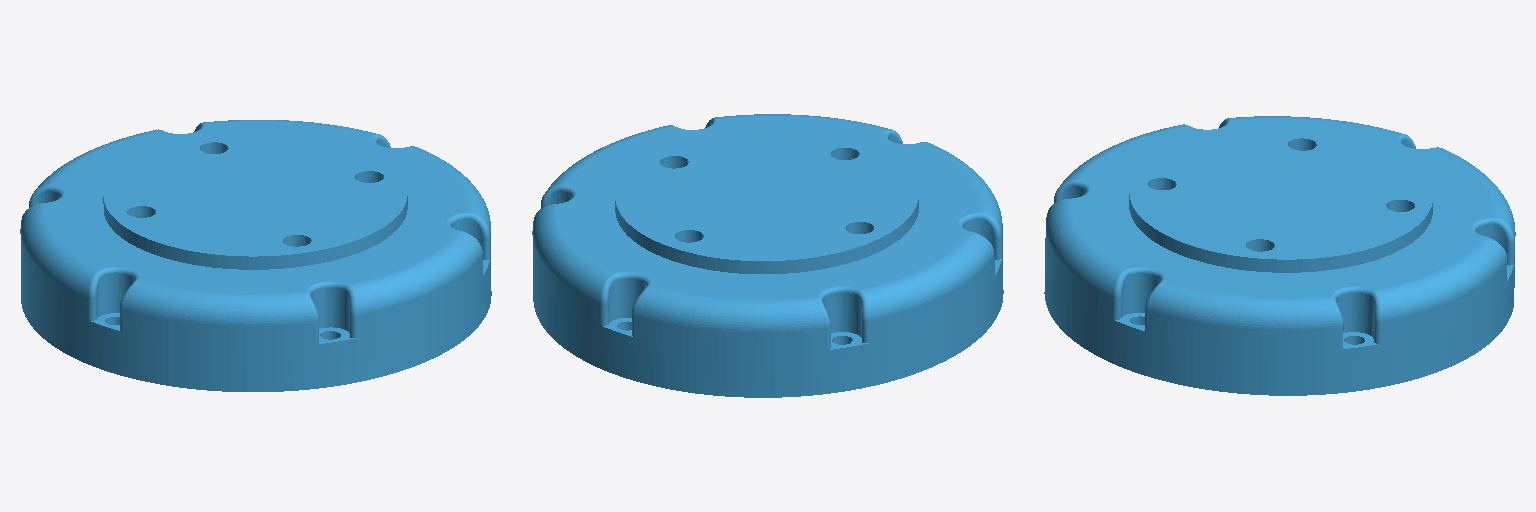
URDF robot description (locarm):
<?xml version="1.0" ?>
<!-- =================================================================================== -->
<!-- |    This document was autogenerated by xacro from vispa.xacro                    | -->
<!-- |    EDITING THIS FILE BY HAND IS NOT RECOMMENDED                                 | -->
<!-- =================================================================================== -->
<!--
   Copyright (C) [author] and Space Ltd - All Rights Reserved
   Written by [author] <[email redacted]>, January 2021

This is the master Locarm AD model file, in form of a XACRO macro.
To build the URDF file, invoke:
  rosrun xacro xacro.py locarm.xacro > locarm.urdf
  TODO: make this part of a build process
Joint FORs are consistent with LOCARM specification .
Joint FOR locations as well as arm dimensions have been cross-checked with arm specification.
Joint torques have been taken from arm specification.
Element masses have been taken from arm specification; inertia matrices have been generated with Meshlab (TODO).
(see http://gazebosim.org/tutorials?tut=inertia&cat=build_robot)
The file conforms to ros_industrial recommndations (TODO)
(see http://wiki.ros.org/Industrial/Tutorials/Create%20a%20URDF%20for%20an%20Industrial%20Robot)
 -->
<robot name="locarm" xmlns:xacro="http://www.ros.org/wiki/xacro">
  <!-- Xacro constants -->
  <!--Kg-->
  <!-- 1e-3 -->
  <!-- Xacro macros -->
  <!-- Include externals -->
  <!-- Import Gazebo-customization elements -->
  <!-- <xacro:include filename="$(find locarm_description)/urdf/locarm.gazebo" /> -->
  <!-- Standard ROS(-industrial) frames -->
  <!-- inertials not needed here -->
  <link name="base_link"/>
  <link name="base"/>
  <link name="world"/>
  <!-- <link name="tool0">
    <xacro:box_inertia mass="0.1" x="0.1" y="0.1" z="0.1" orig="0 0 0" />
  </link> -->
  <!-- Locarm links -->
  <link name="link0">
    <visual>
      <geometry>
        <mesh filename="package://vispa_description/meshes/LINK_BASE.stl" scale="0.001 0.001 0.001"/>
        <!-- Needed to scale as CAD exported in mm but rviz comsumes in SI units i.e. metres-->
      </geometry>
    </visual>
    <collision>
      <geometry>
        <mesh filename="package://vispa_description/meshes/LINK_BASE_col.stl" scale="0.001 0.001 0.001"/>
      </geometry>
    </collision>
    <inertial>
      <mass value="0.627"/>
      <inertia ixx="0.00281845585208" ixy="0" ixz="0" iyy="0.00281883333333" iyz="0" izz="0.00379978918542"/>
      <origin xyz="0 0 0.0"/>
    </inertial>
  </link>
  <link name="link1">
    <visual>
      <geometry>
        <mesh filename="package://vispa_description/meshes/LINK_0.stl" scale="0.001 0.001 0.001"/>
      </geometry>
    </visual>
    <collision>
      <geometry>
        <mesh filename="package://vispa_description/meshes/LINK_0_col.stl" scale="0.001 0.001 0.001"/>
      </geometry>
    </collision>
    <inertial>
      <mass value="1.5"/>
      <inertia ixx="0.00823683333333" ixy="0" ixz="0" iyy="0.00821708333333" iyz="0" izz="0.00234041666667"/>
      <origin xyz="0.0 -0.004173 0.032607"/>
    </inertial>
  </link>
  <link name="link2">
    <visual>
      <geometry>
        <mesh filename="package://vispa_description/meshes/LINK_1.stl" scale="0.001 0.001 0.001"/>
      </geometry>
    </visual>
    <collision>
      <geometry>
        <mesh filename="package://vispa_description/meshes/LINK_1_col.stl" scale="0.001 0.001 0.001"/>
      </geometry>
    </collision>
    <inertial>
      <mass value="2.5"/>
      <inertia ixx="0.0988689375" ixy="0" ixz="0" iyy="0.00683708333333" iyz="0" izz="0.0943525208333"/>
      <origin xyz="0.0 0.219495 0.063379"/>
    </inertial>
  </link>
  <link name="link3">
    <visual>
      <geometry>
        <mesh filename="package://vispa_description/meshes/LINK_2.stl" scale="0.001 0.001 0.001"/>
      </geometry>
    </visual>
    <collision>
      <geometry>
        <mesh filename="package://vispa_description/meshes/LINK_2_col.stl" scale="0.001 0.001 0.001"/>
      </geometry>
    </collision>
    <inertial>
      <mass value="1.863"/>
      <inertia ixx="0.00319248023008" ixy="0" ixz="0" iyy="0.00305781356342" iyz="0" izz="0.00170283333333"/>
      <origin xyz="0.0 0.003751 -0.066289"/>
    </inertial>
  </link>
  <link name="link4">
    <visual>
      <geometry>
        <mesh filename="package://vispa_description/meshes/LINK_3.stl" scale="0.001 0.001 0.001"/>
      </geometry>
    </visual>
    <collision>
      <geometry>
        <mesh filename="package://vispa_description/meshes/LINK_3_col.stl" scale="0.001 0.001 0.001"/>
      </geometry>
    </collision>
    <inertial>
      <mass value="2.16"/>
      <inertia ixx="0.0555065850083" ixy="0" ixz="0" iyy="0.0538596631441" iyz="0" izz="0.00269958148575"/>
      <origin xyz="-0.000267 0.040905 0.237073"/>
    </inertial>
  </link>
  <link name="link5">
    <visual>
      <geometry>
        <mesh filename="package://vispa_description/meshes/LINK_4.stl" scale="0.001 0.001 0.001"/>
      </geometry>
    </visual>
    <collision>
      <geometry>
        <mesh filename="package://vispa_description/meshes/LINK_4_col.stl" scale="0.001 0.001 0.001"/>
      </geometry>
    </collision>
    <inertial>
      <mass value="1.5"/>
      <inertia ixx="0.00242821141742" ixy="0" ixz="0" iyy="0.00212303984967" iyz="0" izz="0.00134496960042"/>
      <origin xyz="0.0 0.003134 0.063172"/>
    </inertial>
  </link>
  <link name="link6">
    <visual>
      <geometry>
        <mesh filename="package://vispa_description/meshes/LINK_5.stl" scale="0.0001 0.0001 0.0001"/>
      </geometry>
      <origin xyz="0 -0.005 0" rpy="0.0174533 0 0"/>
    </visual>
    <collision>
      <geometry>
        <mesh filename="package://vispa_description/meshes/LINK_5_col.stl" scale="0.0001 0.0001 0.0001"/>
      </geometry>
      <origin xyz="0 -0.005 0" rpy="0.0174533 0 0"/>
    </collision>
    <inertial>
      <mass value="1.7"/>
      <inertia ixx="0.00327423958542" ixy="0" ixz="0" iyy="0.00327403159742" iyz="0" izz="0.00180245867867"/>
      <origin xyz="0.000244 0.0 0.084854"/>
    </inertial>
  </link>
  <!-- Standard ROS(-industrial) and Gazebo joints -->
  <joint name="base_link-link0" type="fixed">
    <parent link="base_link"/>
    <child link="link0"/>
    <!-- <origin xyz="0 0 0" rpy="0 0 ${2*C_1_DEGREE}"/> -->
  </joint>
  <joint name="base_link-base" type="fixed">
    <parent link="base_link"/>
    <child link="base"/>
    <!-- <origin xyz="0 0 0" /> -->
  </joint>
  <joint name="world-base_link" type="fixed">
    <parent link="world"/>
    <child link="base_link"/>
    <!-- <origin xyz="0 0 0" /> -->
  </joint>
   --&gt;

  
  <!--<joint name="link6-tool0" type="fixed">
  	<parent link="link6" />
  	<child link="tool0" />
  	<origin xyz="0 0 0.1685" />
  </joint>
  -->
  <!-- LOCARM joints -->
  <joint name="j01" type="revolute">
    <axis xyz="0 0 1"/>
    <limit effort="50" lower="-3.14149265359" upper="-0.174533" velocity="0.09395689"/>
    <parent link="link0"/>
    <child link="link1"/>
    <!-- Location of the link1 FOR in link0 FOR + compensation for as-built 0 position of the joint -->
    <!--origin xyz="0 0 0.105" /-->
    <origin rpy="0 0 0" xyz="0.0 0.0 0.0048"/>
    <dynamics damping="100"/>
  </joint>
  <joint name="j12" type="revolute">
    <axis xyz="0 -1 0"/>
    <limit effort="50" lower="-1.5707963268" upper="1.5707963268" velocity="0.09395689"/>
    <parent link="link1"/>
    <child link="link2"/>
    <!-- Location of the link2 FOR in link1 FOR + compensation for as-built 0 position of the joint -->
    <origin rpy="0 -1.5707963268 0" xyz="0.005 -0.075 0.135"/>
     --&gt;
    
    <dynamics damping="100"/>
  </joint>
  <joint name="j23" type="revolute">
    <axis xyz="0 -1 0"/>
    <limit effort="50" lower="-1.5707963268" upper="1.5707963268" velocity="0.09395689"/>
    <parent link="link2"/>
    <child link="link3"/>
    <!-- Location of the link3 FOR in link2 FOR  + compensation for as-built 0 position of the joint -->
    <!--origin xyz="0 0.95 0.067" /-->
    <origin rpy="0 0 0" xyz="0.667 -0.022 0.0"/>
    <dynamics damping="100"/>
  </joint>
  <joint name="j34" type="revolute">
    <axis xyz="-1 0 0"/>
    <limit effort="50" lower="0.174533" upper="3.14149265359" velocity="0.09395689"/>
    <parent link="link3"/>
    <child link="link4"/>
    <!-- Location of the link4 FOR in link3 FOR  + compensation for as-built 0 position of the joint -->
    <!-- origin xyz="0 0.0565 -0.127" rpy="${-C_PI_2} 0 0" /-->
    <origin rpy="0 0 0" xyz="-0.113 0.08 0.0"/>
    <dynamics damping="100"/>
  </joint>
  <joint name="j45" type="revolute">
    <axis xyz="0 1 0"/>
    <limit effort="50" lower="-3.14149265359" upper="3.14149265359" velocity="0.09395689"/>
    <parent link="link4"/>
    <child link="link5"/>
    <!-- Location of the link5 FOR in link4 FOR + compensation for as-built 0 position of the joint -->
    <!-- origin xyz="0 0.0455 0.7635" rpy="${C_PI_2} 0 0" /-->
    <origin rpy="0 0 0" xyz="-0.435 0.03 0.0"/>
    <dynamics damping="100"/>
  </joint>
  <joint name="j56" type="revolute">
    <axis xyz="0 0 -1"/>
    <limit effort="50" lower="-3.14149265359" upper="3.14149265359" velocity="0.09395689"/>
    <parent link="link5"/>
    <child link="link6"/>
    <!-- Location of the link6 FOR in link5 FOR + compensation for as-built 0 position of the joint -->
    <origin rpy="0 1.5707963268 0" xyz="0.237 -0.021 0.0"/>
    <dynamics damping="100"/>
  </joint>
  <!-- Transmissions (ros_control) -->
  <transmission name="j01_t">
    <type>transmission_interface/SimpleTransmission</type>
    <joint name="j01">
      <hardwareInterface>EffortJointInterface</hardwareInterface>
    </joint>
    <actuator name="motor_j01">
      <mechanicalReduction>1</mechanicalReduction>
    </actuator>
  </transmission>
  <transmission name="j12_t">
    <type>transmission_interface/SimpleTransmission</type>
    <joint name="j12">
      <hardwareInterface>EffortJointInterface</hardwareInterface>
    </joint>
    <actuator name="motor_j12">
      <mechanicalReduction>1</mechanicalReduction>
    </actuator>
  </transmission>
  <transmission name="j23_t">
    <type>transmission_interface/SimpleTransmission</type>
    <joint name="j23">
      <hardwareInterface>EffortJointInterface</hardwareInterface>
    </joint>
    <actuator name="motor_j23">
      <mechanicalReduction>1</mechanicalReduction>
    </actuator>
  </transmission>
  <transmission name="j34_t">
    <type>transmission_interface/SimpleTransmission</type>
    <joint name="j34">
      <hardwareInterface>EffortJointInterface</hardwareInterface>
    </joint>
    <actuator name="motor_j34">
      <mechanicalReduction>1</mechanicalReduction>
    </actuator>
  </transmission>
  <transmission name="j45_t">
    <type>transmission_interface/SimpleTransmission</type>
    <joint name="j45">
      <hardwareInterface>EffortJointInterface</hardwareInterface>
    </joint>
    <actuator name="motor_j45">
      <mechanicalReduction>1</mechanicalReduction>
    </actuator>
  </transmission>
  <transmission name="j56_t">
    <type>transmission_interface/SimpleTransmission</type>
    <joint name="j56">
      <hardwareInterface>EffortJointInterface</hardwareInterface>
    </joint>
    <actuator name="motor_j56">
      <mechanicalReduction>1</mechanicalReduction>
    </actuator>
  </transmission>
</robot>

--- Facts derived from the render (not from the file) ---
Views: 3 orthographic renders of the robot side by side, from view 1: azimuth 30°, elevation 25°; view 2: azimuth 150°, elevation 25°; view 3: azimuth 270°, elevation 25°.
Model locarm with 10 links and 9 joints (6 revolute, 3 fixed), rooted at world, posed all joints at 0 but 2 set to mid-range because 0 is outside their limits (j01 = -1.66, j34 = 1.66).
Visible links, largest first — view 1: link6; view 2: link6; view 3: link6.
Link boxes in pixels (box(x1,y1,x2,y2)): link6: box(20, 120, 491, 391); link6: box(532, 114, 1003, 397); link6: box(1044, 116, 1515, 395).
Bounding box of the posed robot: 0.097 × 0.0972 × 0.0244 m (x, y, z).
Meshes: 7 distinct files referenced, 1 mesh visuals loaded (1 binary STL); not drawn: 6 (reference not matched to a file when rendering).